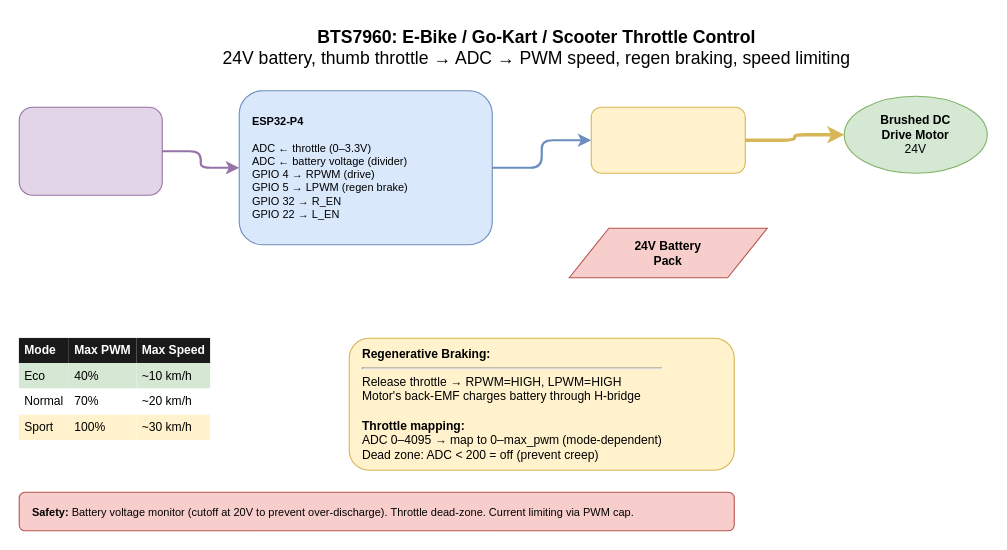
This 1007x550 diagram has some shape labels left out. The shapes that lost their labels are listed below. From the top down, each one's box as (x1, y1, x2, y2) in pixels, then its label:
(18, 106, 162, 195): Thumb Throttle (Hall effect) 0–3.3V analog → ADC input
(590, 106, 745, 173): BTS7960 24V, 43A
